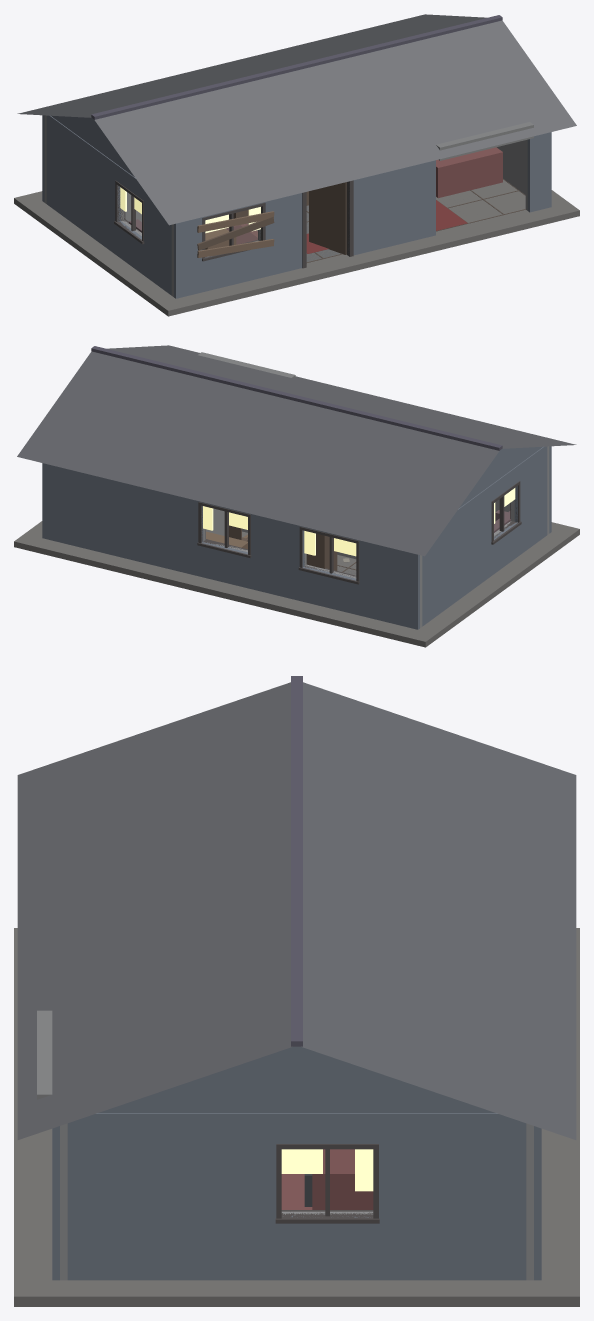
File: casa_04_garagem.glb
The picture shows the model from 3 angles, top to bottom: view 1: azimuth 30°, elevation 25°; view 2: azimuth 150°, elevation 25°; view 3: azimuth 270°, elevation 25°; orthographic projection. The views are drawn at different scales.
Visible parts, largest first — view 1: roof, wall_south, floor, walls_exterior, furniture, decor_grim, doors, exterior_props, glass; view 2: roof, walls_exterior, floor, furniture, glass, wall_south, exterior_props, walls_interior; view 3: roof, walls_exterior, floor, furniture, wall_south, glass, exterior_props.
Boxes of the visible parts, left/top/right/bottom form: roof: left=17, top=14, right=576, bottom=225; wall_south: left=171, top=132, right=551, bottom=298; floor: left=14, top=179, right=579, bottom=316; walls_exterior: left=42, top=115, right=525, bottom=295; furniture: left=129, top=147, right=502, bottom=249; decor_grim: left=197, top=200, right=467, bottom=257; doors: left=309, top=182, right=346, bottom=254; exterior_props: left=285, top=122, right=533, bottom=278; glass: left=120, top=187, right=260, bottom=233; roof: left=17, top=345, right=576, bottom=556; walls_exterior: left=42, top=446, right=547, bottom=629; floor: left=14, top=521, right=579, bottom=647; furniture: left=206, top=510, right=510, bottom=570; glass: left=203, top=488, right=515, bottom=556; wall_south: left=495, top=446, right=551, bottom=534; exterior_props: left=198, top=352, right=295, bottom=377; walls_interior: left=206, top=508, right=356, bottom=559; roof: left=17, top=676, right=576, bottom=1139; walls_exterior: left=67, top=1113, right=541, bottom=1280; floor: left=14, top=928, right=579, bottom=1306; furniture: left=281, top=1149, right=373, bottom=1209; wall_south: left=52, top=1123, right=67, bottom=1280; glass: left=281, top=1149, right=373, bottom=1191; exterior_props: left=37, top=1010, right=52, bottom=1099.
Size of the model in its own units: 11.4 by 3.81 by 7.4.
